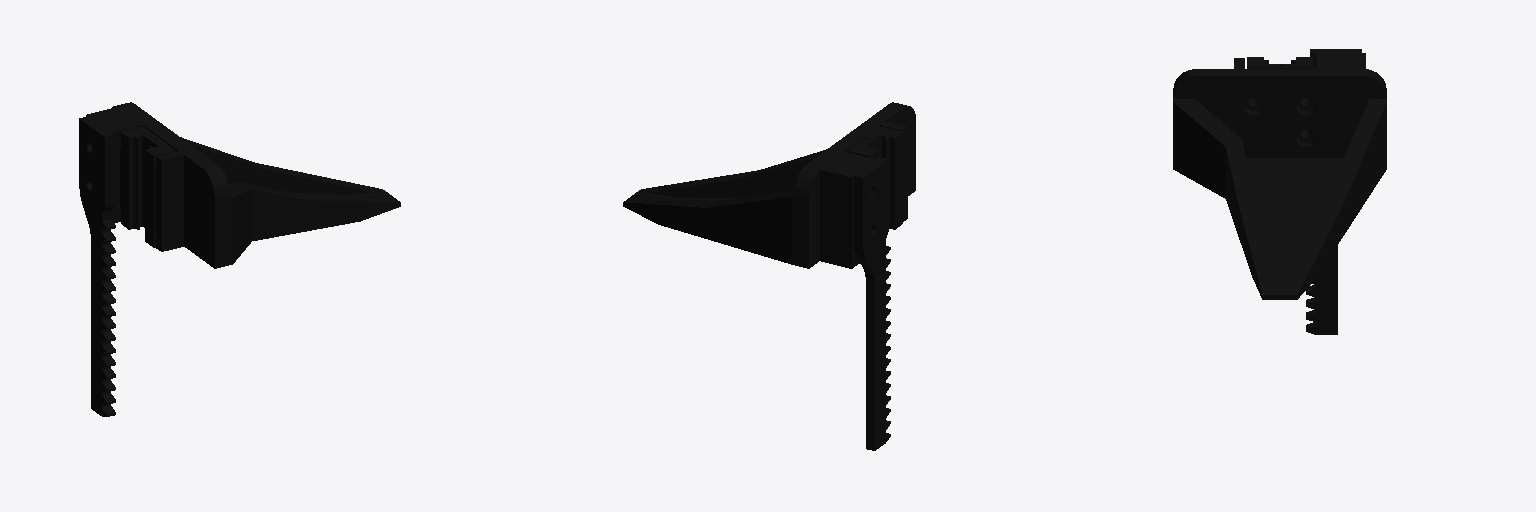
3 renders of one model, left to right at view 1: azimuth 30°, elevation 25°; view 2: azimuth 150°, elevation 25°; view 3: azimuth 270°, elevation 25°, orthographic.
Visible parts, largest first — view 1: link7; view 2: link7; view 3: link7.
Boxes of the visible parts, box(x1,y1,x2,y2) form: link7: box(79, 102, 400, 416); link7: box(623, 102, 915, 450); link7: box(1173, 49, 1386, 334).
Bounding box in the file's own units: 0.0896 × 0.0888 × 0.061.